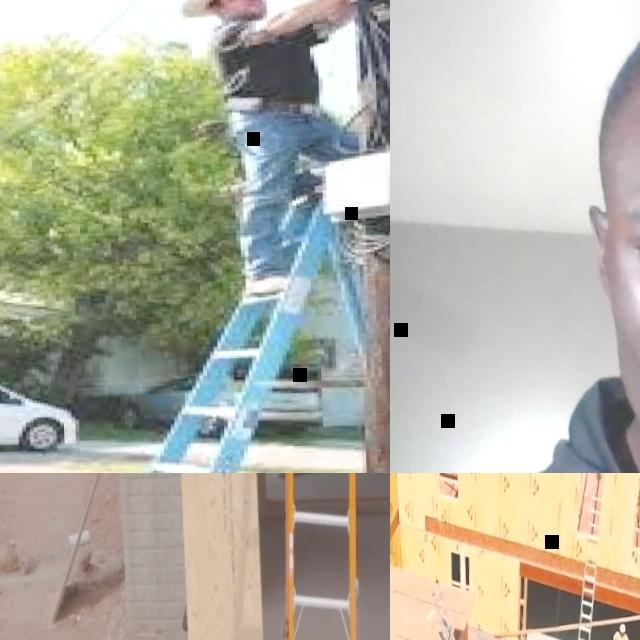Hardhat: (619, 621, 625, 630)
NO-Hardhat: (588, 0, 640, 147)
NO-Mask: (226, 0, 266, 14), (620, 631, 624, 635)
NO-Safety Vest: (220, 15, 318, 100)
Person: (401, 0, 640, 473), (205, 0, 390, 296), (611, 620, 631, 640)
Safety Vest: (614, 631, 626, 640)
vehicle: (0, 364, 76, 453)
